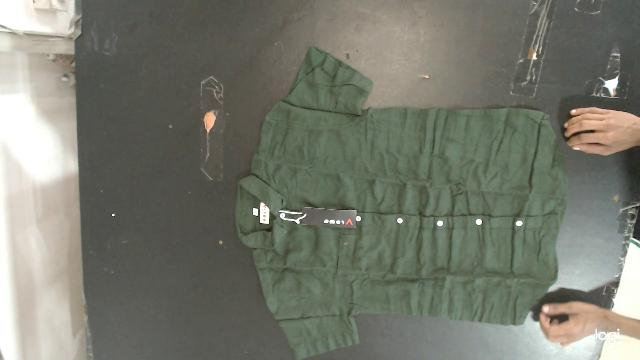new-garment: (235, 47, 567, 359)
